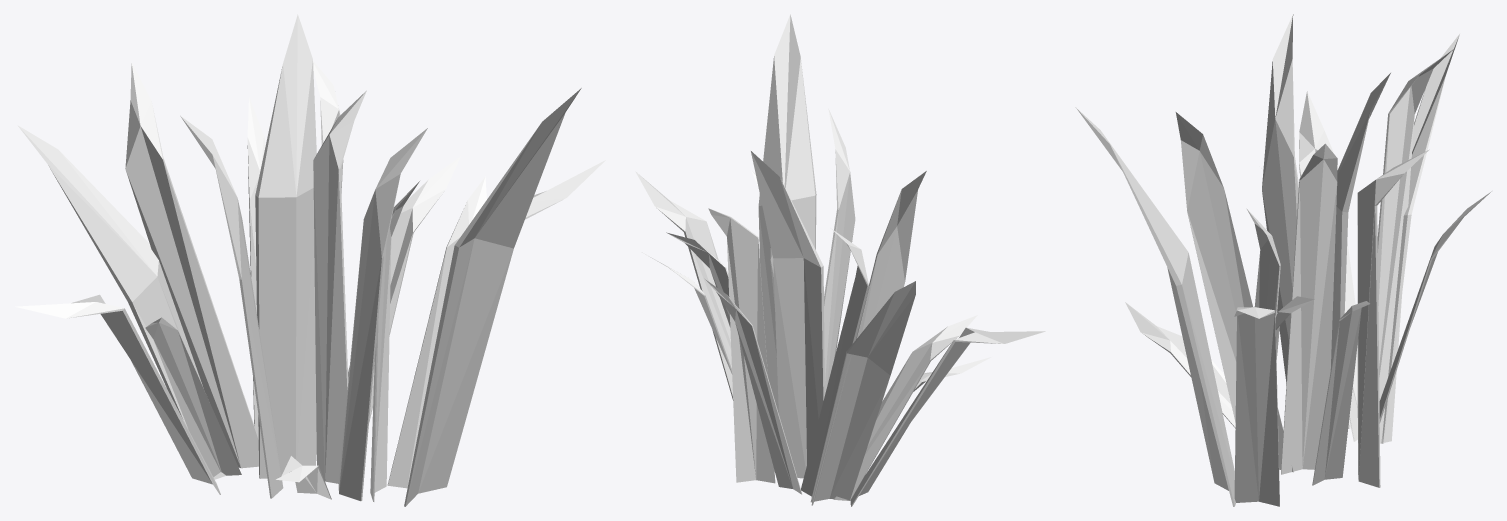
The model's file is Env_Grass_Patch_Yellow_05.glb.
3 views of the same model, side by side, from view 1: azimuth 30°, elevation 25°; view 2: azimuth 150°, elevation 25°; view 3: azimuth 270°, elevation 25° (orthographic). The views are drawn at different scales.
Visible parts, largest first — view 1: Env_Grass_Patch_Yellow_05; view 2: Env_Grass_Patch_Yellow_05; view 3: Env_Grass_Patch_Yellow_05.
Part boxes in pixels (<box>): Env_Grass_Patch_Yellow_05: <box>15,14,605,506</box>; Env_Grass_Patch_Yellow_05: <box>635,14,1045,506</box>; Env_Grass_Patch_Yellow_05: <box>1075,14,1491,506</box>.
Bounding box in the file's own units: 0.5578 × 0.4305 × 0.3843.
1 material, 1 textured.
